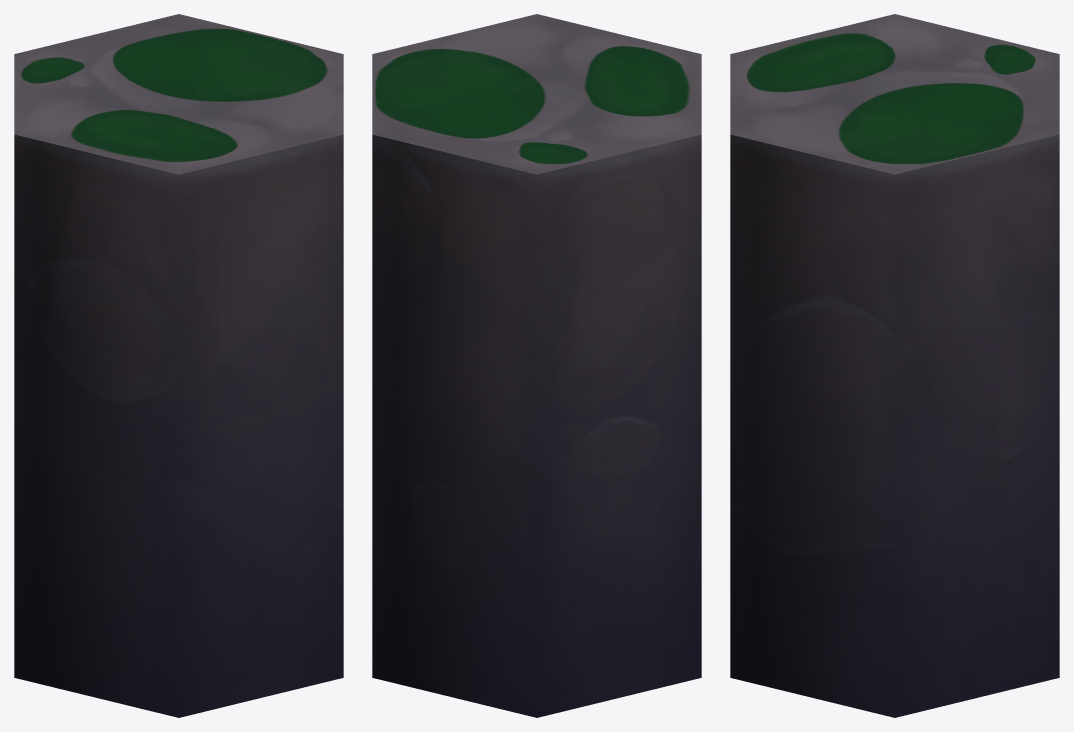
Rendered from S_HexagonStone_01.fbx.
3 views of the same model, side by side, from view 1: azimuth 30°, elevation 25°; view 2: azimuth 150°, elevation 25°; view 3: azimuth 270°, elevation 25° (orthographic).
Parts seen in each view (by area): view 1: S_HexagonStone_01; view 2: S_HexagonStone_01; view 3: S_HexagonStone_01.
Part boxes in pixels (bbox=[...]): S_HexagonStone_01: bbox=[14, 14, 343, 717]; S_HexagonStone_01: bbox=[372, 14, 701, 717]; S_HexagonStone_01: bbox=[730, 14, 1059, 717].
Bounding box in the file's own units: 186 × 293 × 161.
